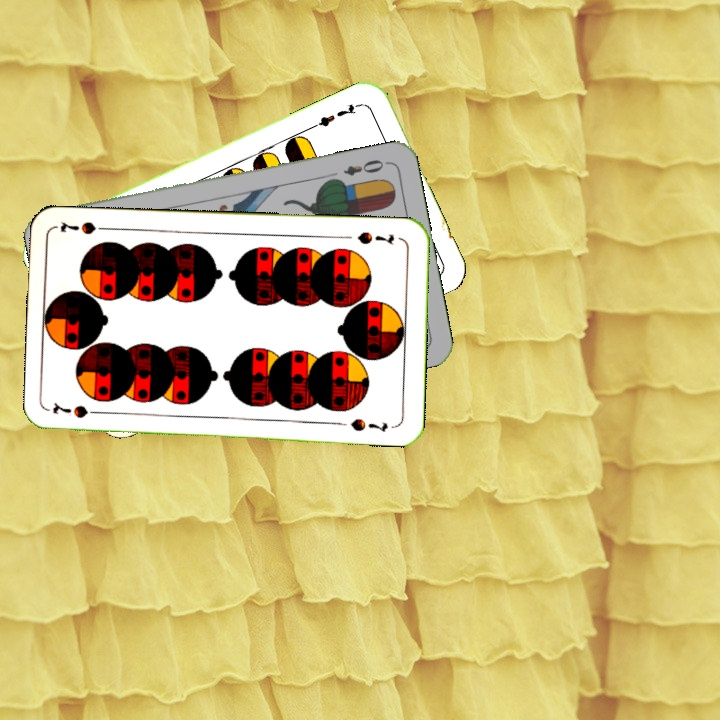E7: (308, 99, 364, 131)
EO: (339, 155, 391, 178)
S7: (49, 399, 108, 421), (353, 227, 396, 247)
